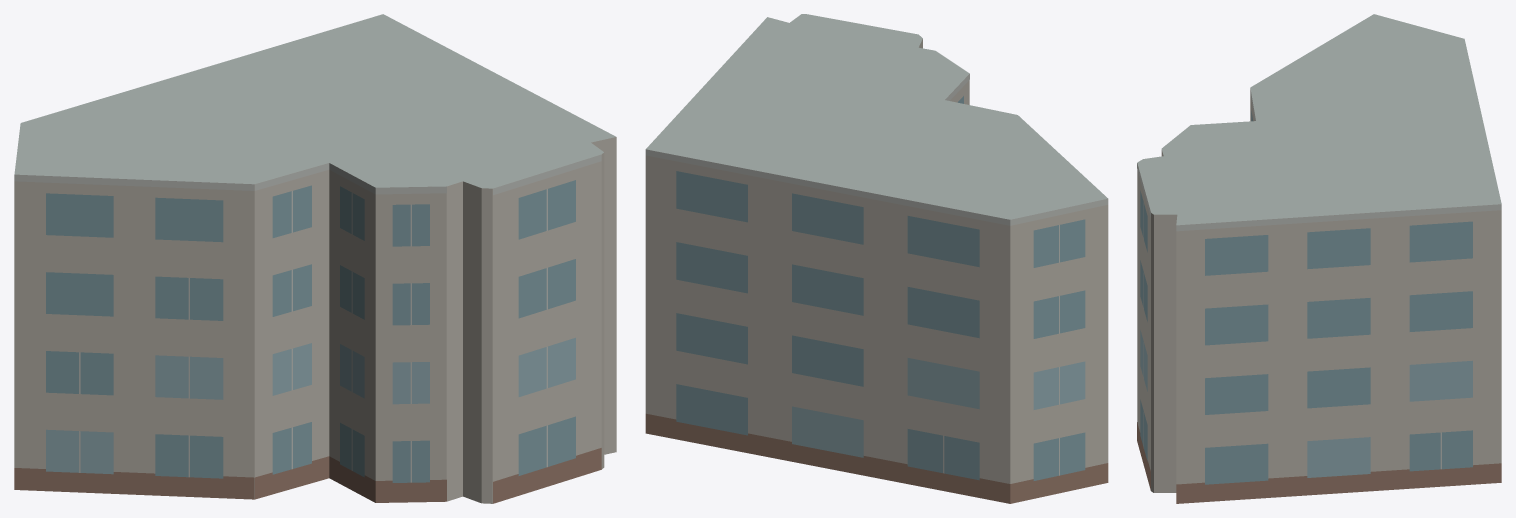
Rendered from survey-upis-32801219.glb.
3 renders of one model, left to right at view 1: azimuth 30°, elevation 25°; view 2: azimuth 150°, elevation 25°; view 3: azimuth 270°, elevation 25°, orthographic. The views are drawn at different scales.
Parts seen in each view (by area): view 1: survey-upis-32801219.tmp; view 2: survey-upis-32801219.tmp; view 3: survey-upis-32801219.tmp.
Boxes of the visible parts, x1,y1,x2,y2 form: survey-upis-32801219.tmp: [14, 14, 616, 503]; survey-upis-32801219.tmp: [645, 14, 1108, 503]; survey-upis-32801219.tmp: [1137, 14, 1501, 503].
Bounding box in the file's own units: 18.56 × 11.4 × 13.54.
